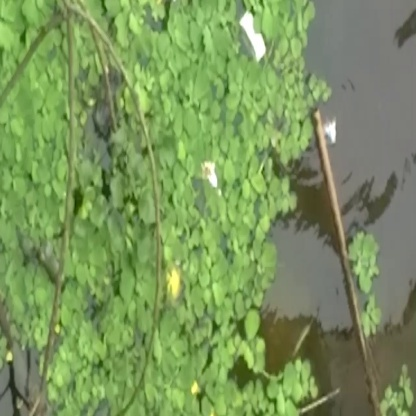branch: (309, 108, 392, 416)
